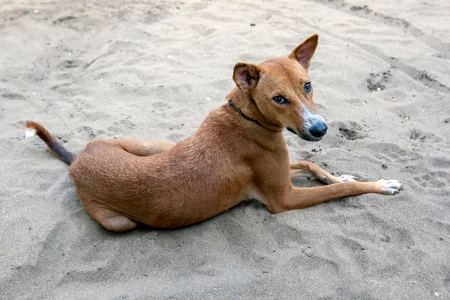Dog: (18, 28, 406, 253)
